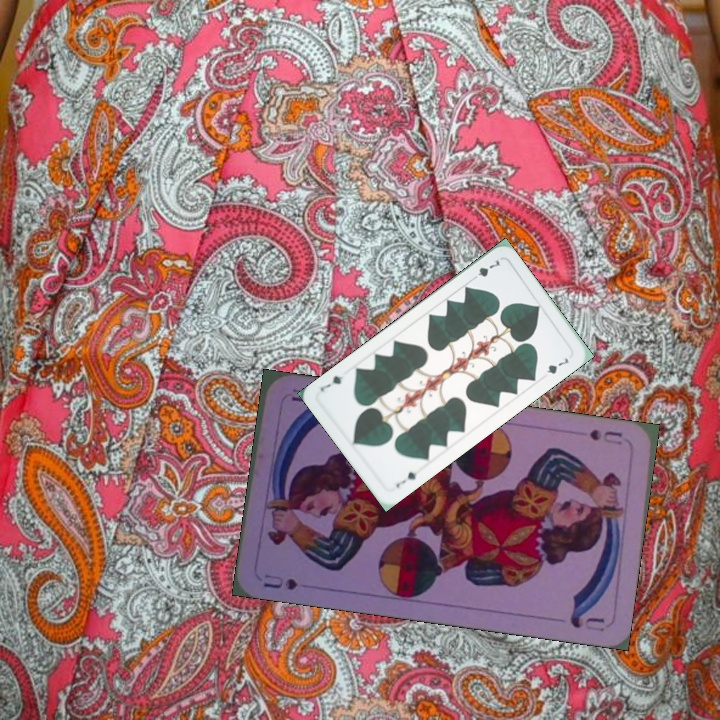G7: (467, 256, 502, 284), (392, 468, 419, 491)
SU: (259, 570, 300, 593), (585, 425, 625, 447)
